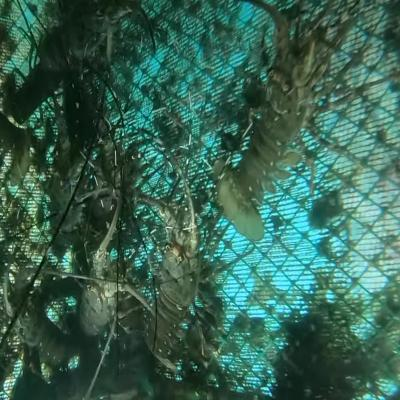lobster: (234, 41, 328, 193), (144, 207, 209, 351), (74, 241, 130, 334), (41, 132, 87, 233)
